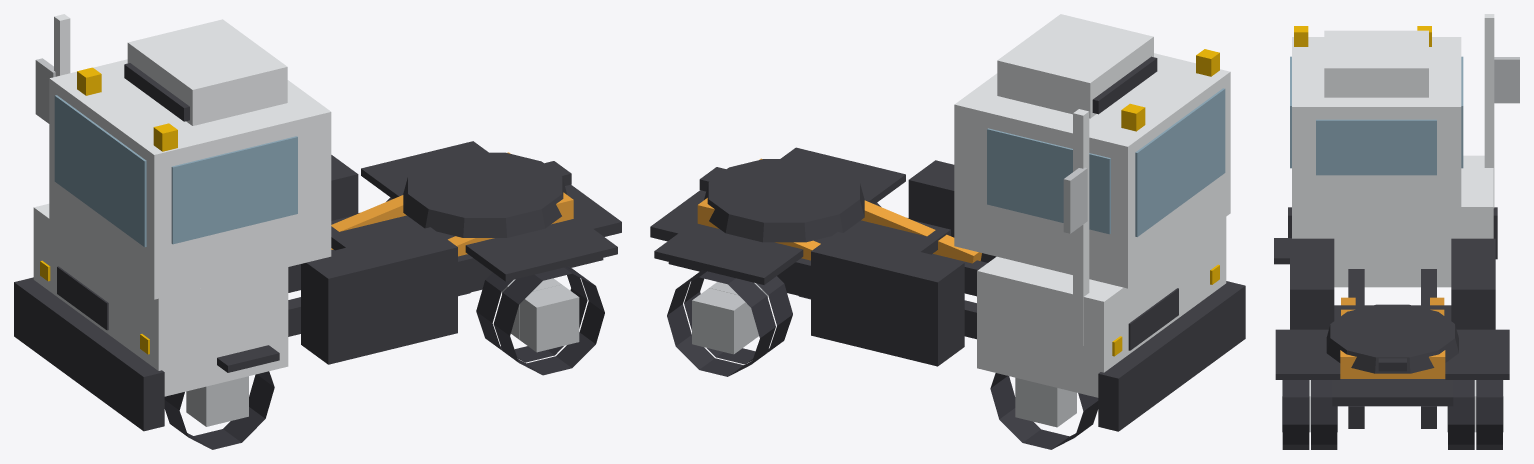
File: utr.glb
3 renders of one model, left to right at view 1: azimuth 30°, elevation 25°; view 2: azimuth 150°, elevation 25°; view 3: azimuth 270°, elevation 25°, orthographic. The views are drawn at different scales.
Visible parts, largest first — view 1: white, black, glass, rubber, hub, orange, amber; view 2: white, black, glass, rubber, hub, orange, amber; view 3: white, black, glass, rubber, orange, hub, amber.
Part boxes in pixels (x1,y1,x2,y2): white: [33, 14, 331, 396]; black: [14, 63, 621, 431]; glass: [54, 95, 297, 247]; rubber: [164, 197, 604, 449]; hub: [35, 58, 579, 426]; orange: [331, 152, 573, 256]; amber: [40, 67, 177, 354]; white: [954, 14, 1230, 397]; black: [650, 56, 1245, 431]; glass: [987, 88, 1225, 236]; rubber: [667, 203, 1098, 449]; hub: [692, 167, 1087, 427]; orange: [697, 158, 981, 263]; amber: [1112, 49, 1219, 356]; white: [1292, 14, 1494, 287]; black: [1274, 207, 1509, 428]; glass: [1290, 56, 1463, 175]; rubber: [1282, 380, 1502, 449]; orange: [1340, 297, 1445, 378]; hub: [1282, 57, 1519, 432]; amber: [1294, 26, 1431, 46].
Bounding box in the file's own units: 5.85 × 3.87 × 3.05.
